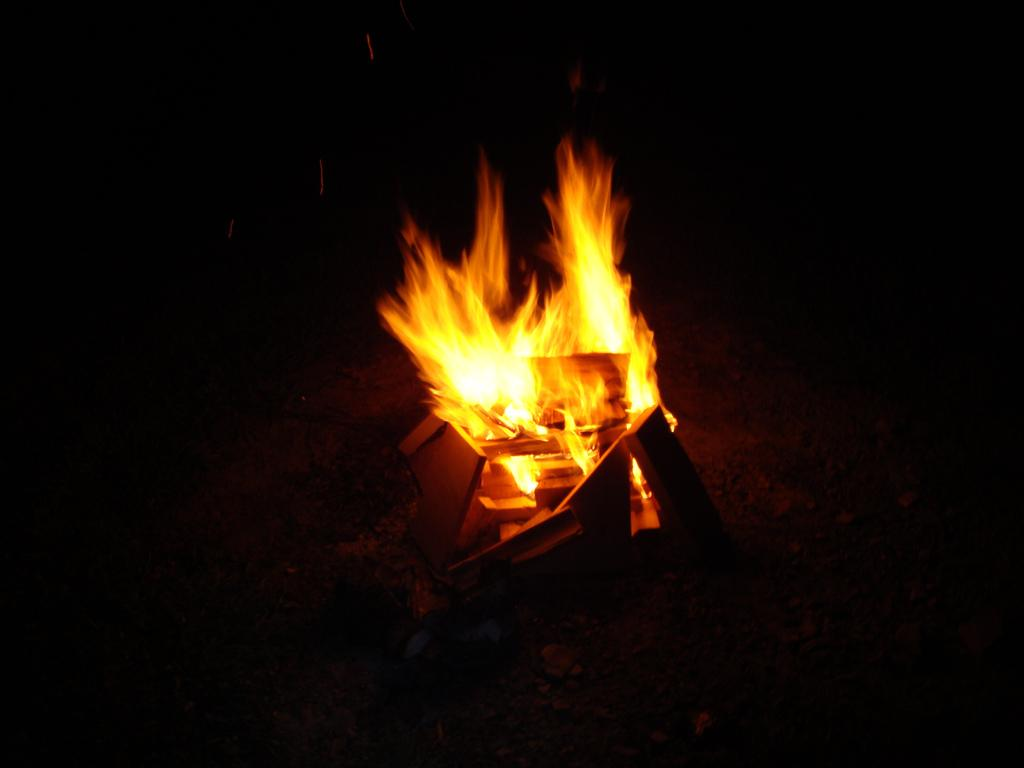fire: (440, 316, 534, 430), (564, 214, 632, 348)
